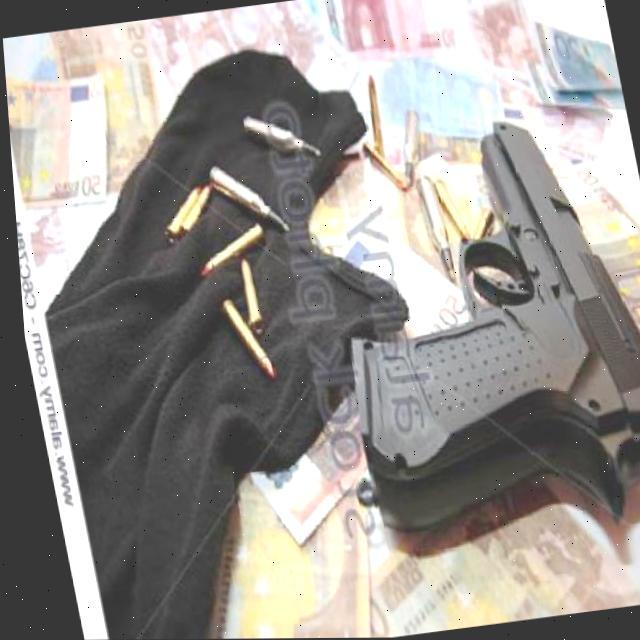gun: (295, 101, 640, 558)
